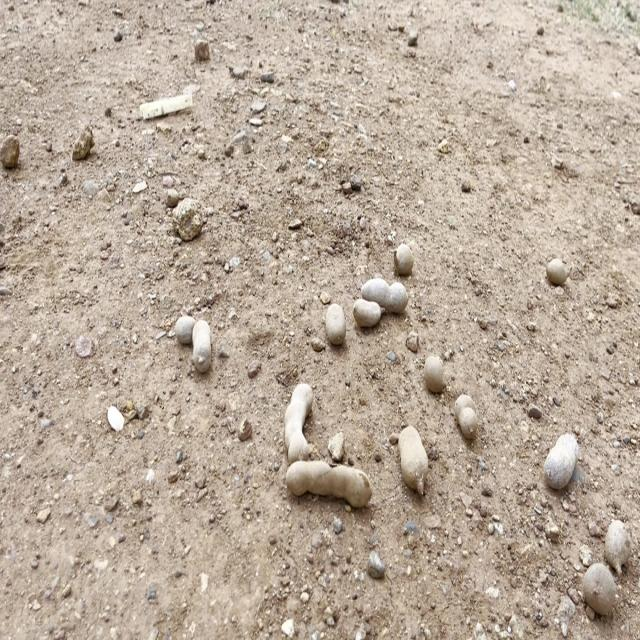tamarind: (285, 465, 371, 512), (388, 423, 434, 499), (283, 372, 312, 459), (575, 558, 615, 616), (541, 435, 581, 489), (172, 313, 210, 368), (357, 276, 415, 308), (604, 514, 632, 572), (321, 301, 351, 343), (452, 394, 482, 433), (418, 353, 446, 391), (540, 253, 570, 286), (387, 245, 413, 271), (353, 298, 384, 316)
